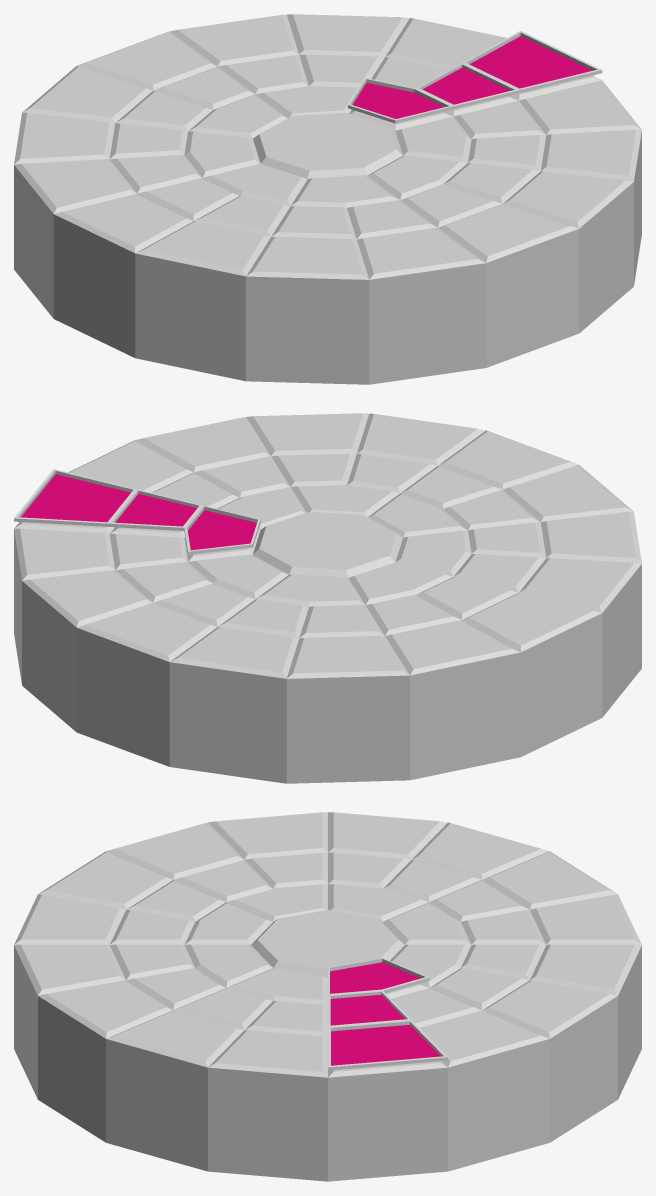
The model's file is arenav2.fbx.
The picture shows the model from 3 angles, top to bottom: view 1: azimuth 30°, elevation 25°; view 2: azimuth 150°, elevation 25°; view 3: azimuth 270°, elevation 25°; orthographic projection.
Parts seen in each view (by area): view 1: ArenaGround, FarSegment, CloseSegment, MidSegment; view 2: ArenaGround, FarSegment, CloseSegment, MidSegment; view 3: ArenaGround, FarSegment, CloseSegment, MidSegment.
Part boxes in pixels (x1,y1,x2,y2): ArenaGround: (14,14,641,384); FarSegment: (462,31,602,93); CloseSegment: (348,77,453,123); MidSegment: (416,63,518,109); ArenaGround: (14,413,641,783); FarSegment: (14,469,136,526); CloseSegment: (184,505,260,554); MidSegment: (109,489,201,530); ArenaGround: (14,812,641,1181); FarSegment: (328,1020,447,1070); CloseSegment: (328,958,429,995); MidSegment: (328,991,410,1026).
Size of the model in its own units: 628 by 126 by 628.
